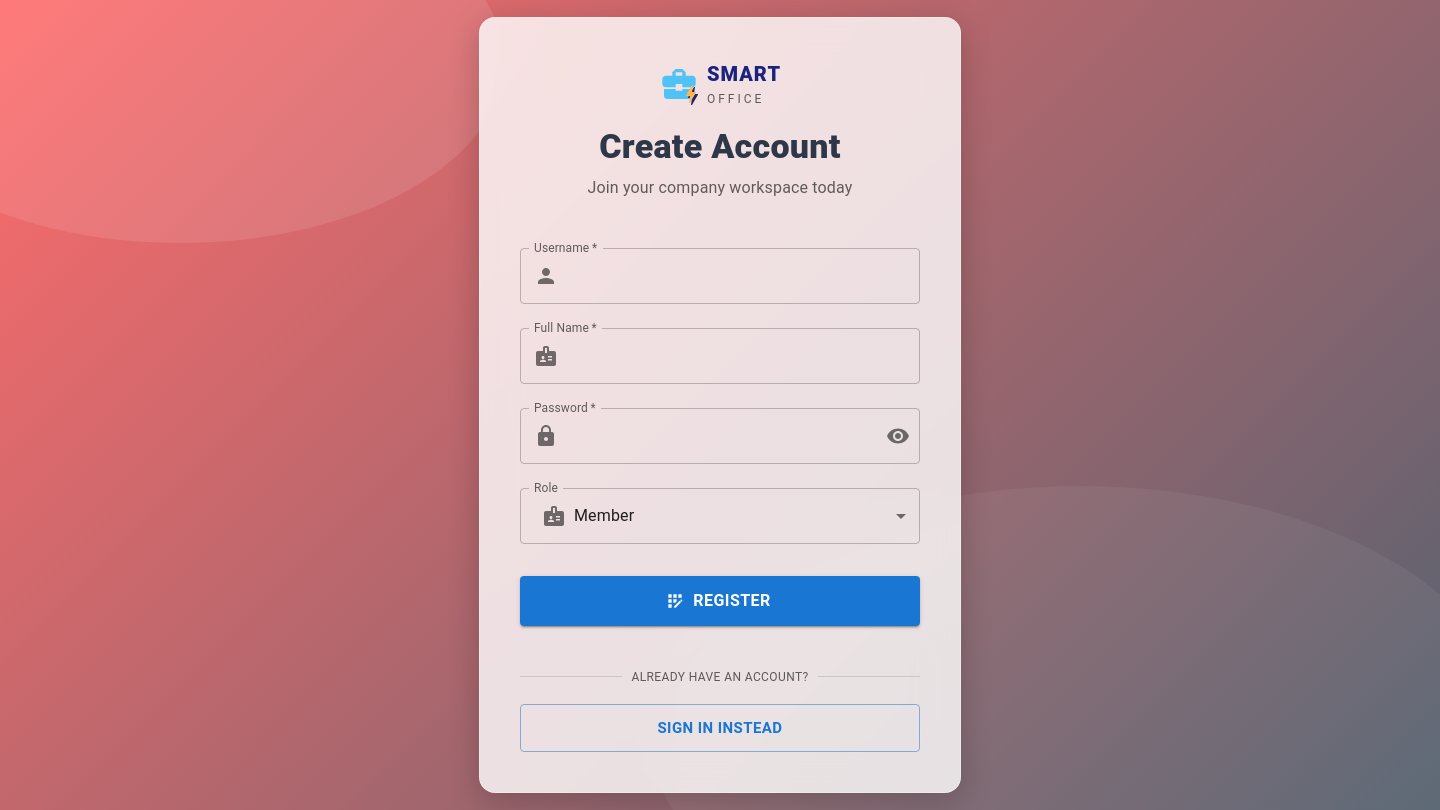
RegisterPage › should show password length error
// Fill in valid username/fullname but short password
Type "User1" into the field labelled "Username *" at (743, 276), box [566,248,920,304]
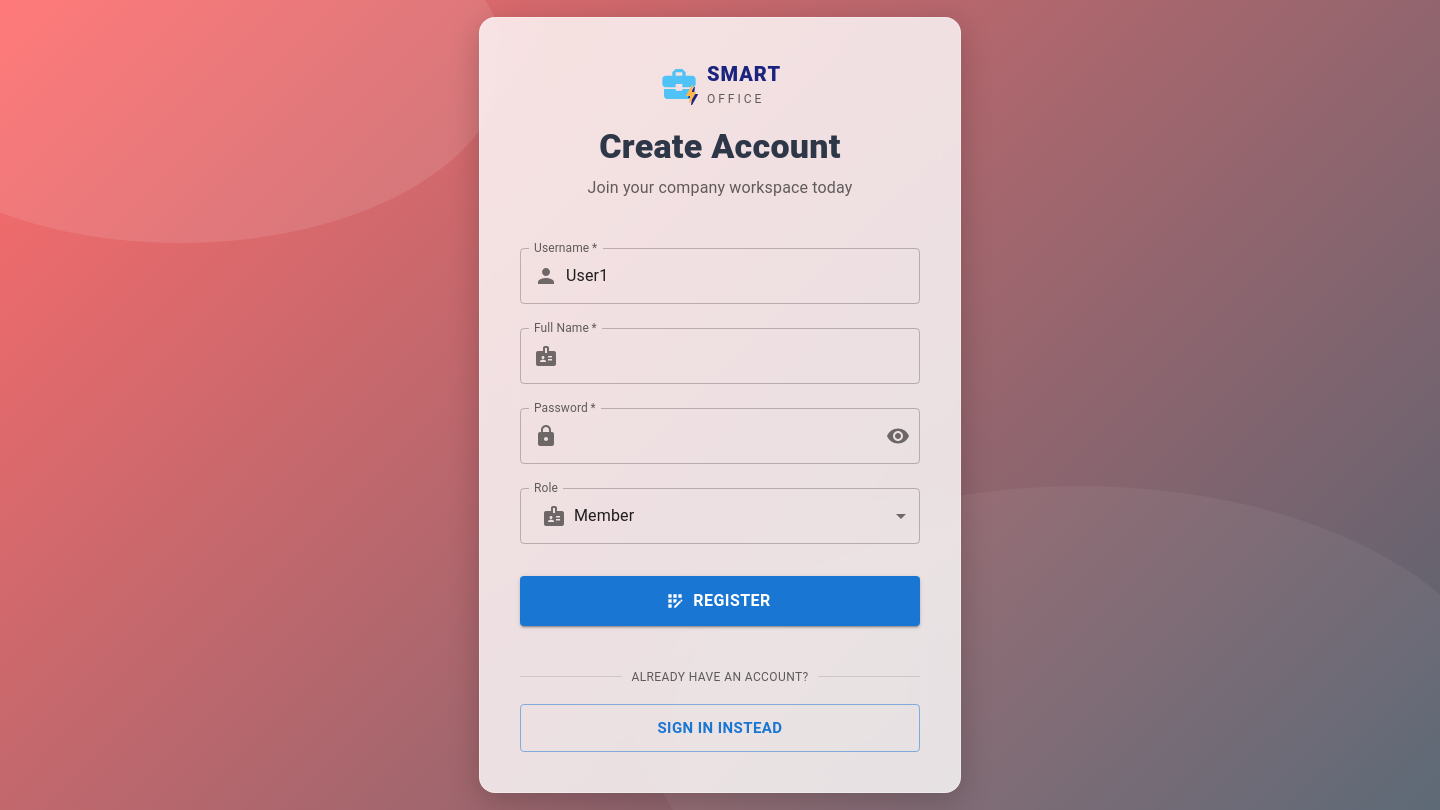
Type "Test User" into the field labelled "Full Name *" at (743, 356), box [566,328,920,384]
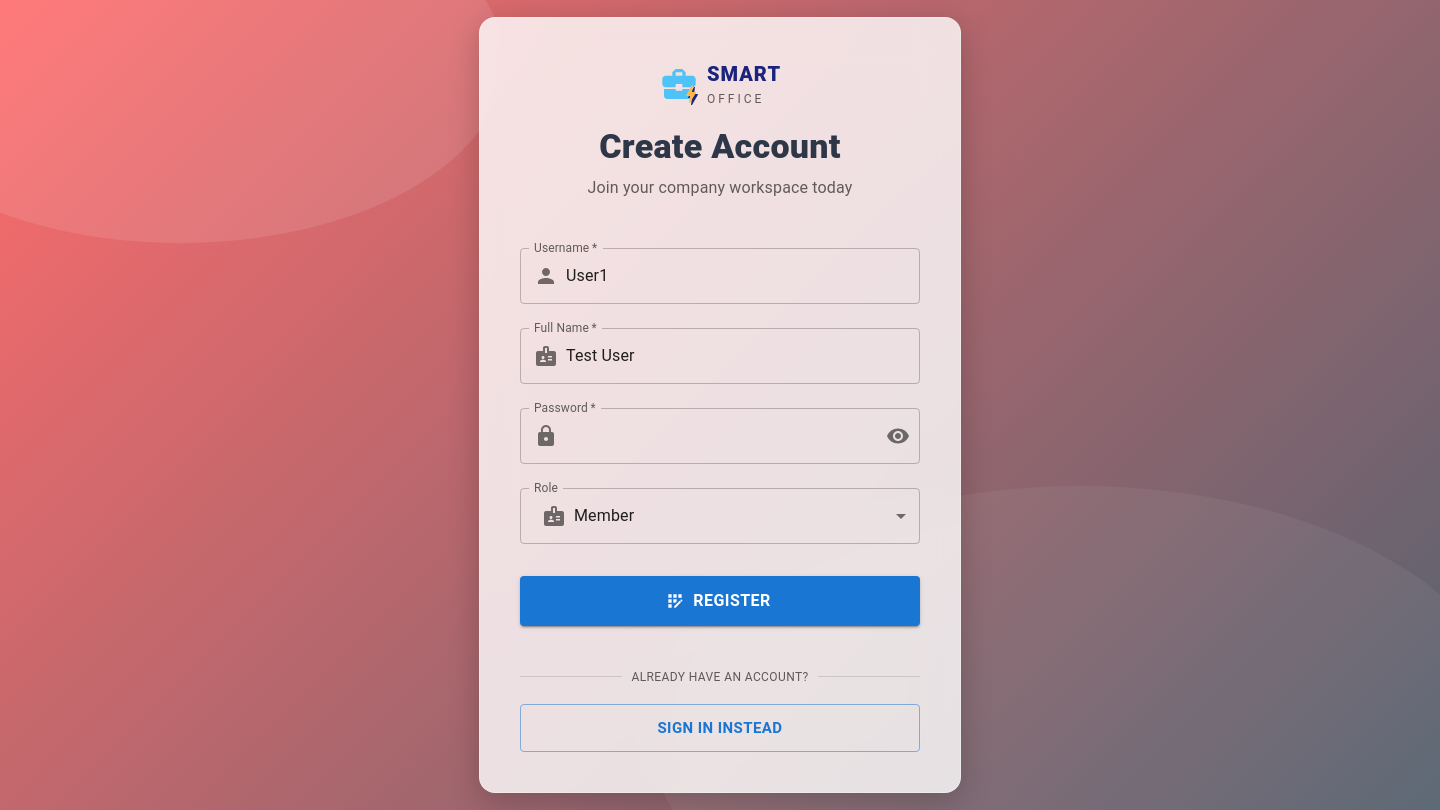
Type "123" into the password field labelled "Password *" at (718, 436), box [566,408,870,464]
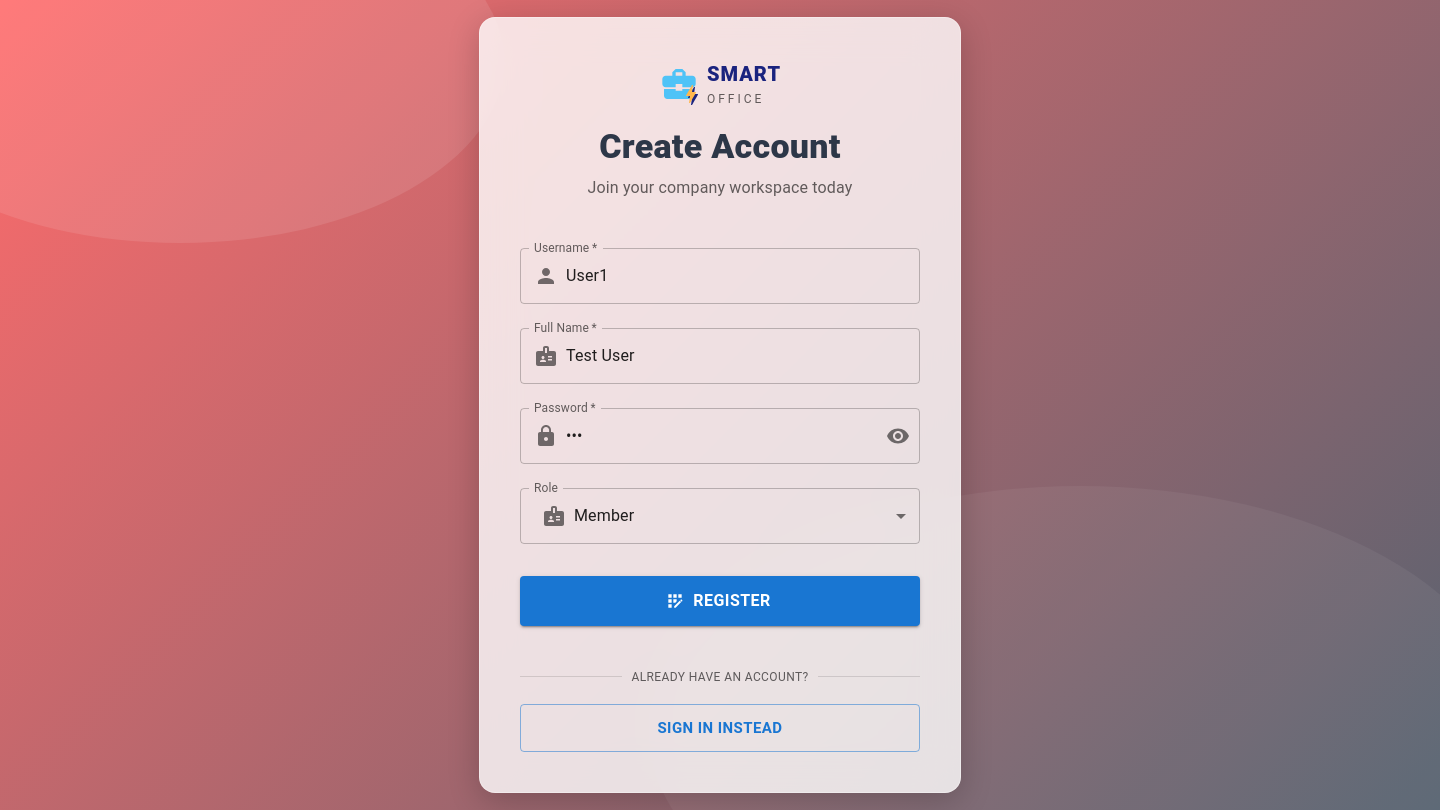
Click the button "Register" at (720, 601), box [520,576,920,626]
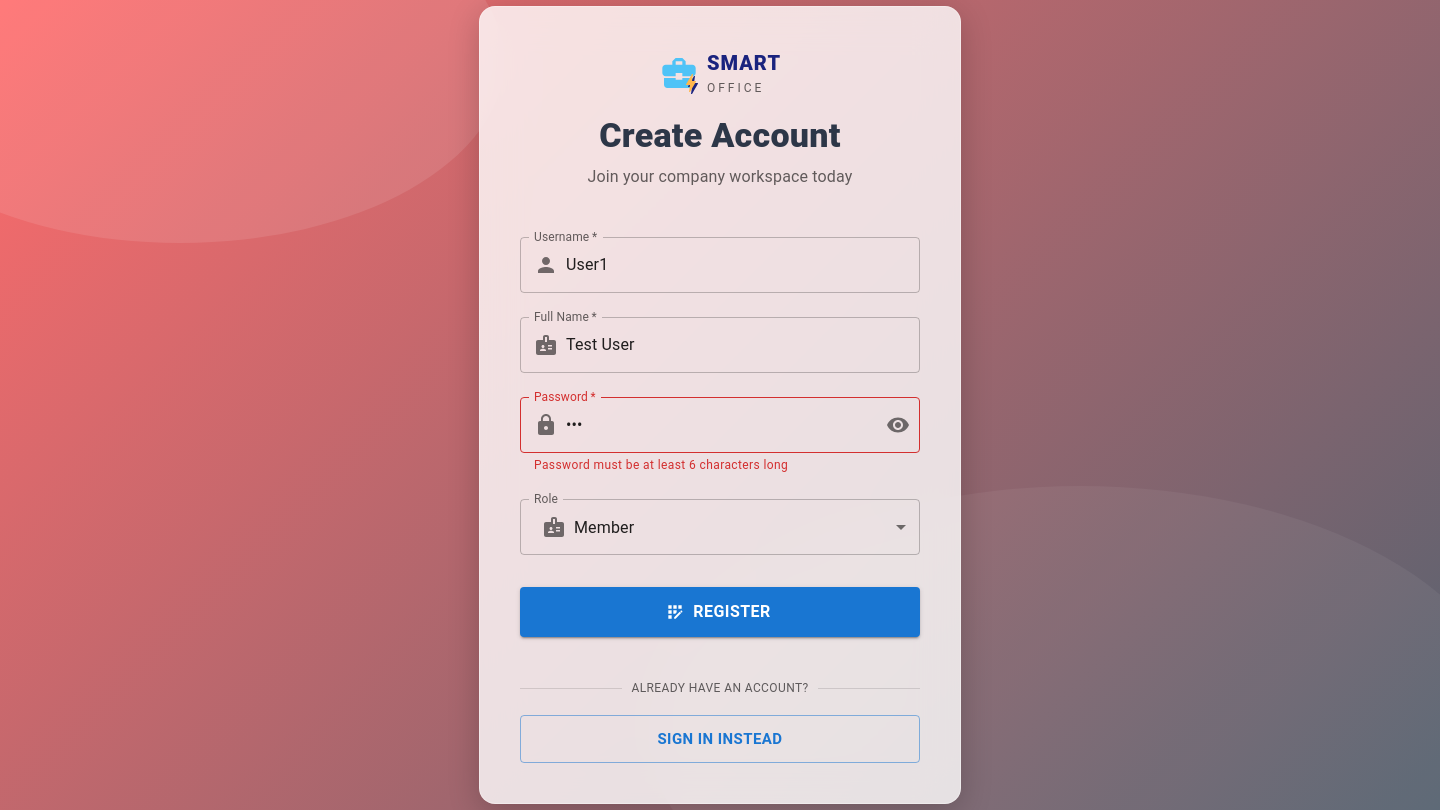
Expected: the text "Password must be at least 6 characters long" is shown, [534,458,788,472]
